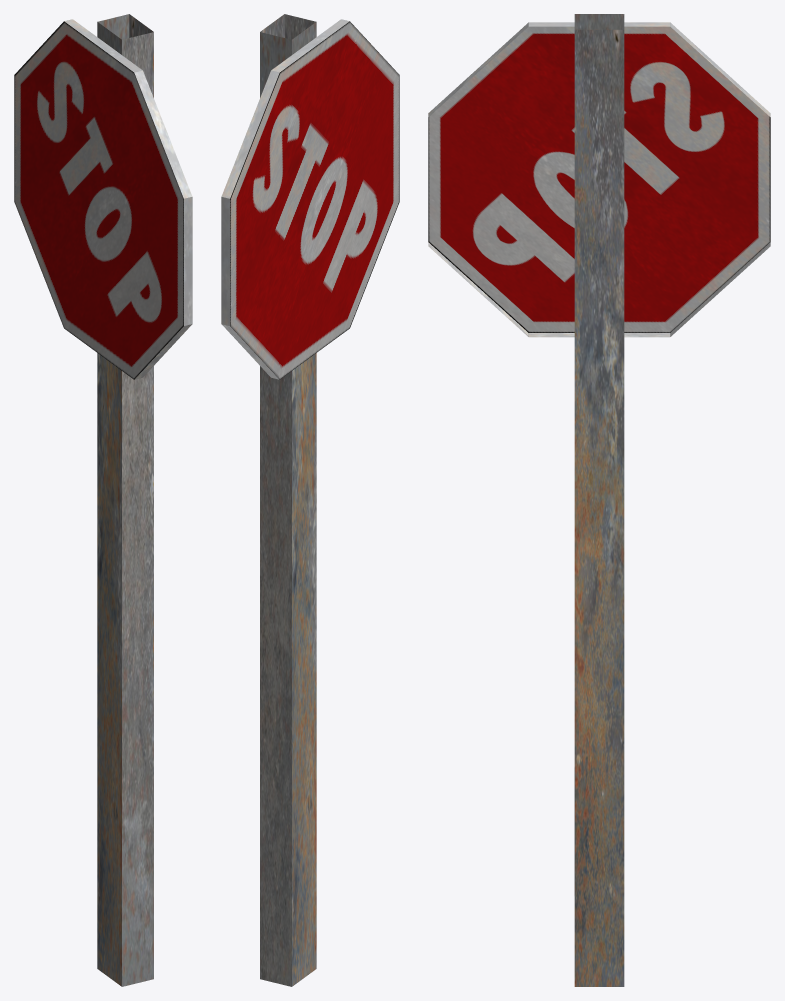
Rendered from stop.gltf.
3 renders of one model, left to right at view 1: azimuth 30°, elevation 25°; view 2: azimuth 150°, elevation 25°; view 3: azimuth 270°, elevation 25°, orthographic.
Visible parts, largest first — view 1: stop; view 2: stop; view 3: stop.
Part boxes in pixels (x1=…): stop: x1=14, y1=14, x2=192, y2=986; stop: x1=221, y1=14, x2=399, y2=986; stop: x1=428, y1=14, x2=770, y2=986.
Size of the model in its own units: 1 by 21.25 by 6.89.
Materials: 1 (1 with a texture image).
